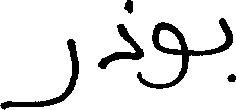X: (0, 34, 76, 109), (98, 0, 142, 88), (153, 17, 186, 93), (213, 13, 235, 86)
